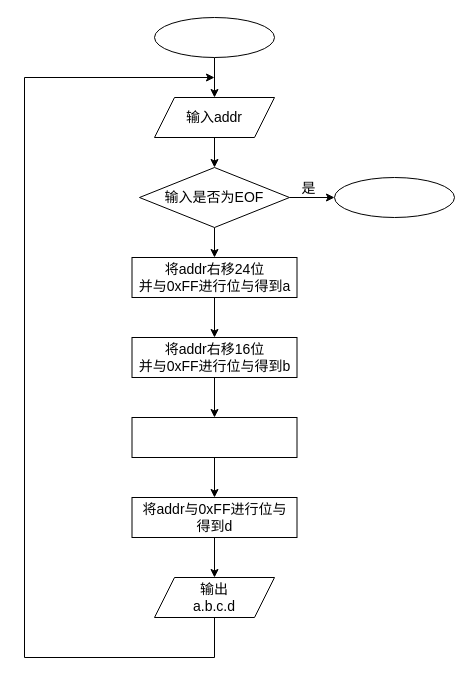
This 472x683 diagram has some shape labels left out. The box of each missing label's shape, as (x1, y1, x2, y2) in pixels:
将addr右移8位 并与0xFF进行位与得到c: (131, 416, 297, 458)
程序开始: (154, 16, 274, 58)
程序结束: (334, 176, 454, 218)
